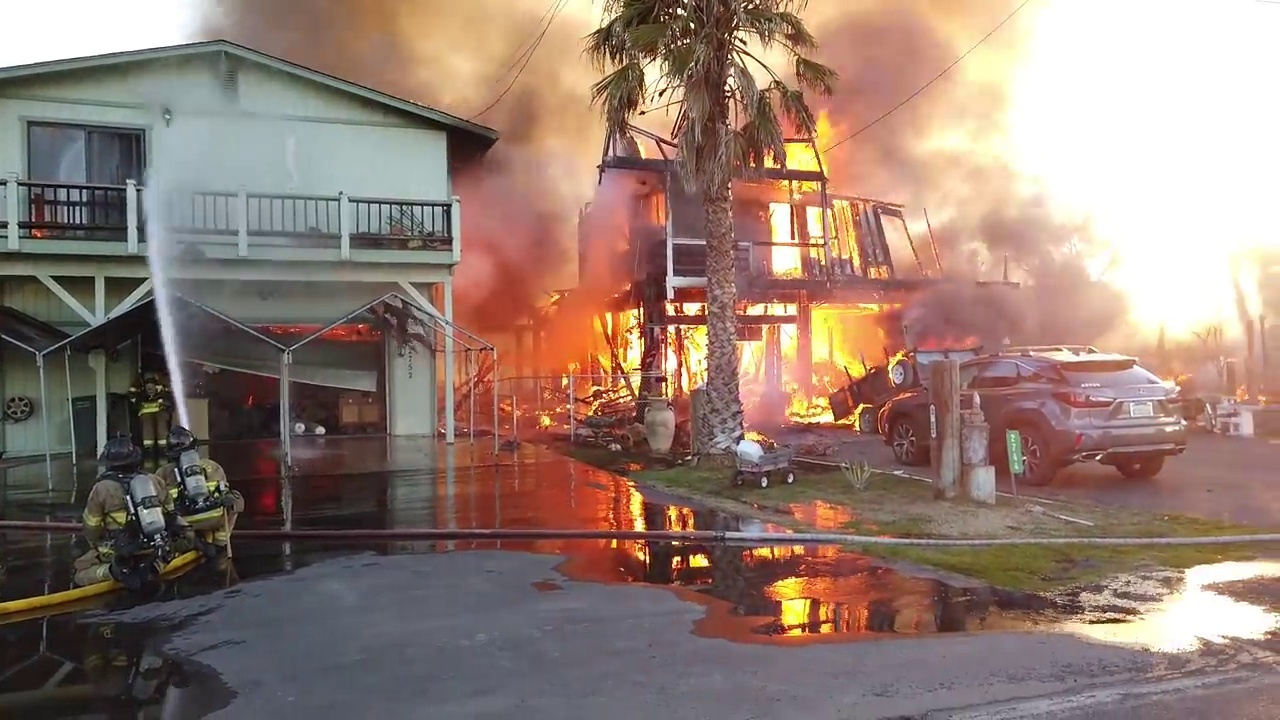fire: (577, 250, 903, 632), (1081, 541, 1279, 665), (1115, 229, 1279, 346), (908, 330, 980, 358), (1057, 347, 1132, 362)
smoke: (167, 0, 589, 211), (876, 2, 1114, 339)
